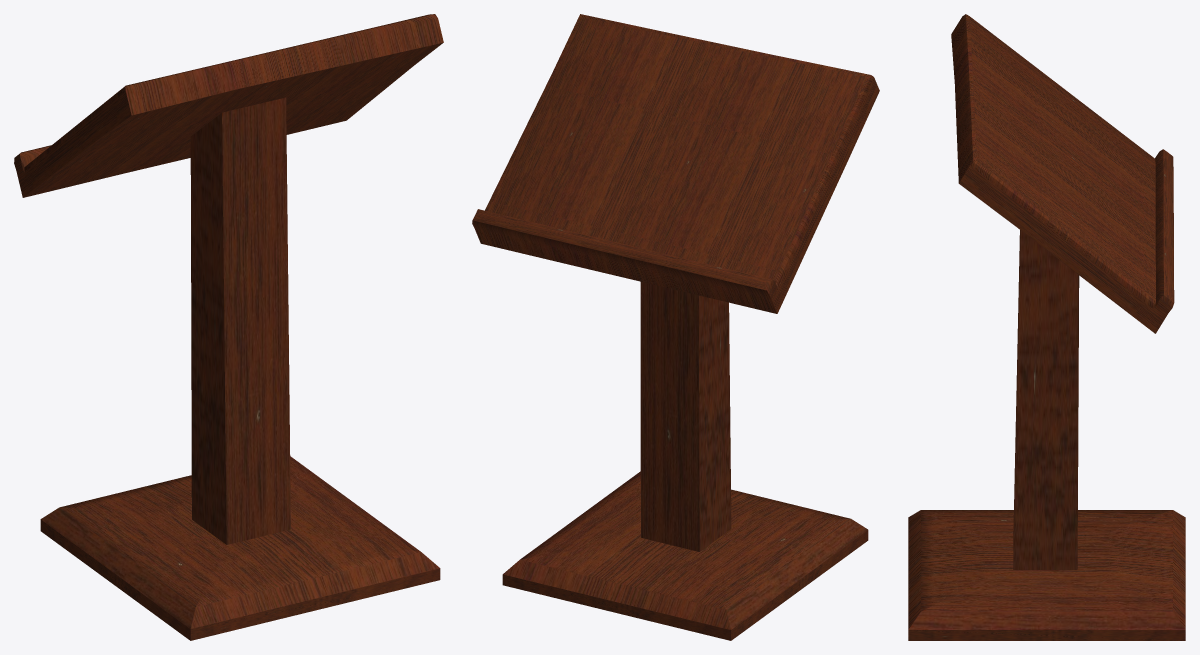
Rendered from Pedestal.FBX.
The picture shows the model from 3 angles, left to right: view 1: azimuth 30°, elevation 25°; view 2: azimuth 150°, elevation 25°; view 3: azimuth 270°, elevation 25°; orthographic projection. The views are drawn at different scales.
Visible parts, largest first — view 1: Box002; view 2: Box002; view 3: Box002.
Boxes of the visible parts, x1=… form: Box002: x1=14, y1=14, x2=443, y2=640; Box002: x1=472, y1=14, x2=879, y2=640; Box002: x1=908, y1=14, x2=1185, y2=640.
Size of the model in its own units: 0.7937 by 1.26 by 0.6328.
1 material, 1 textured.
